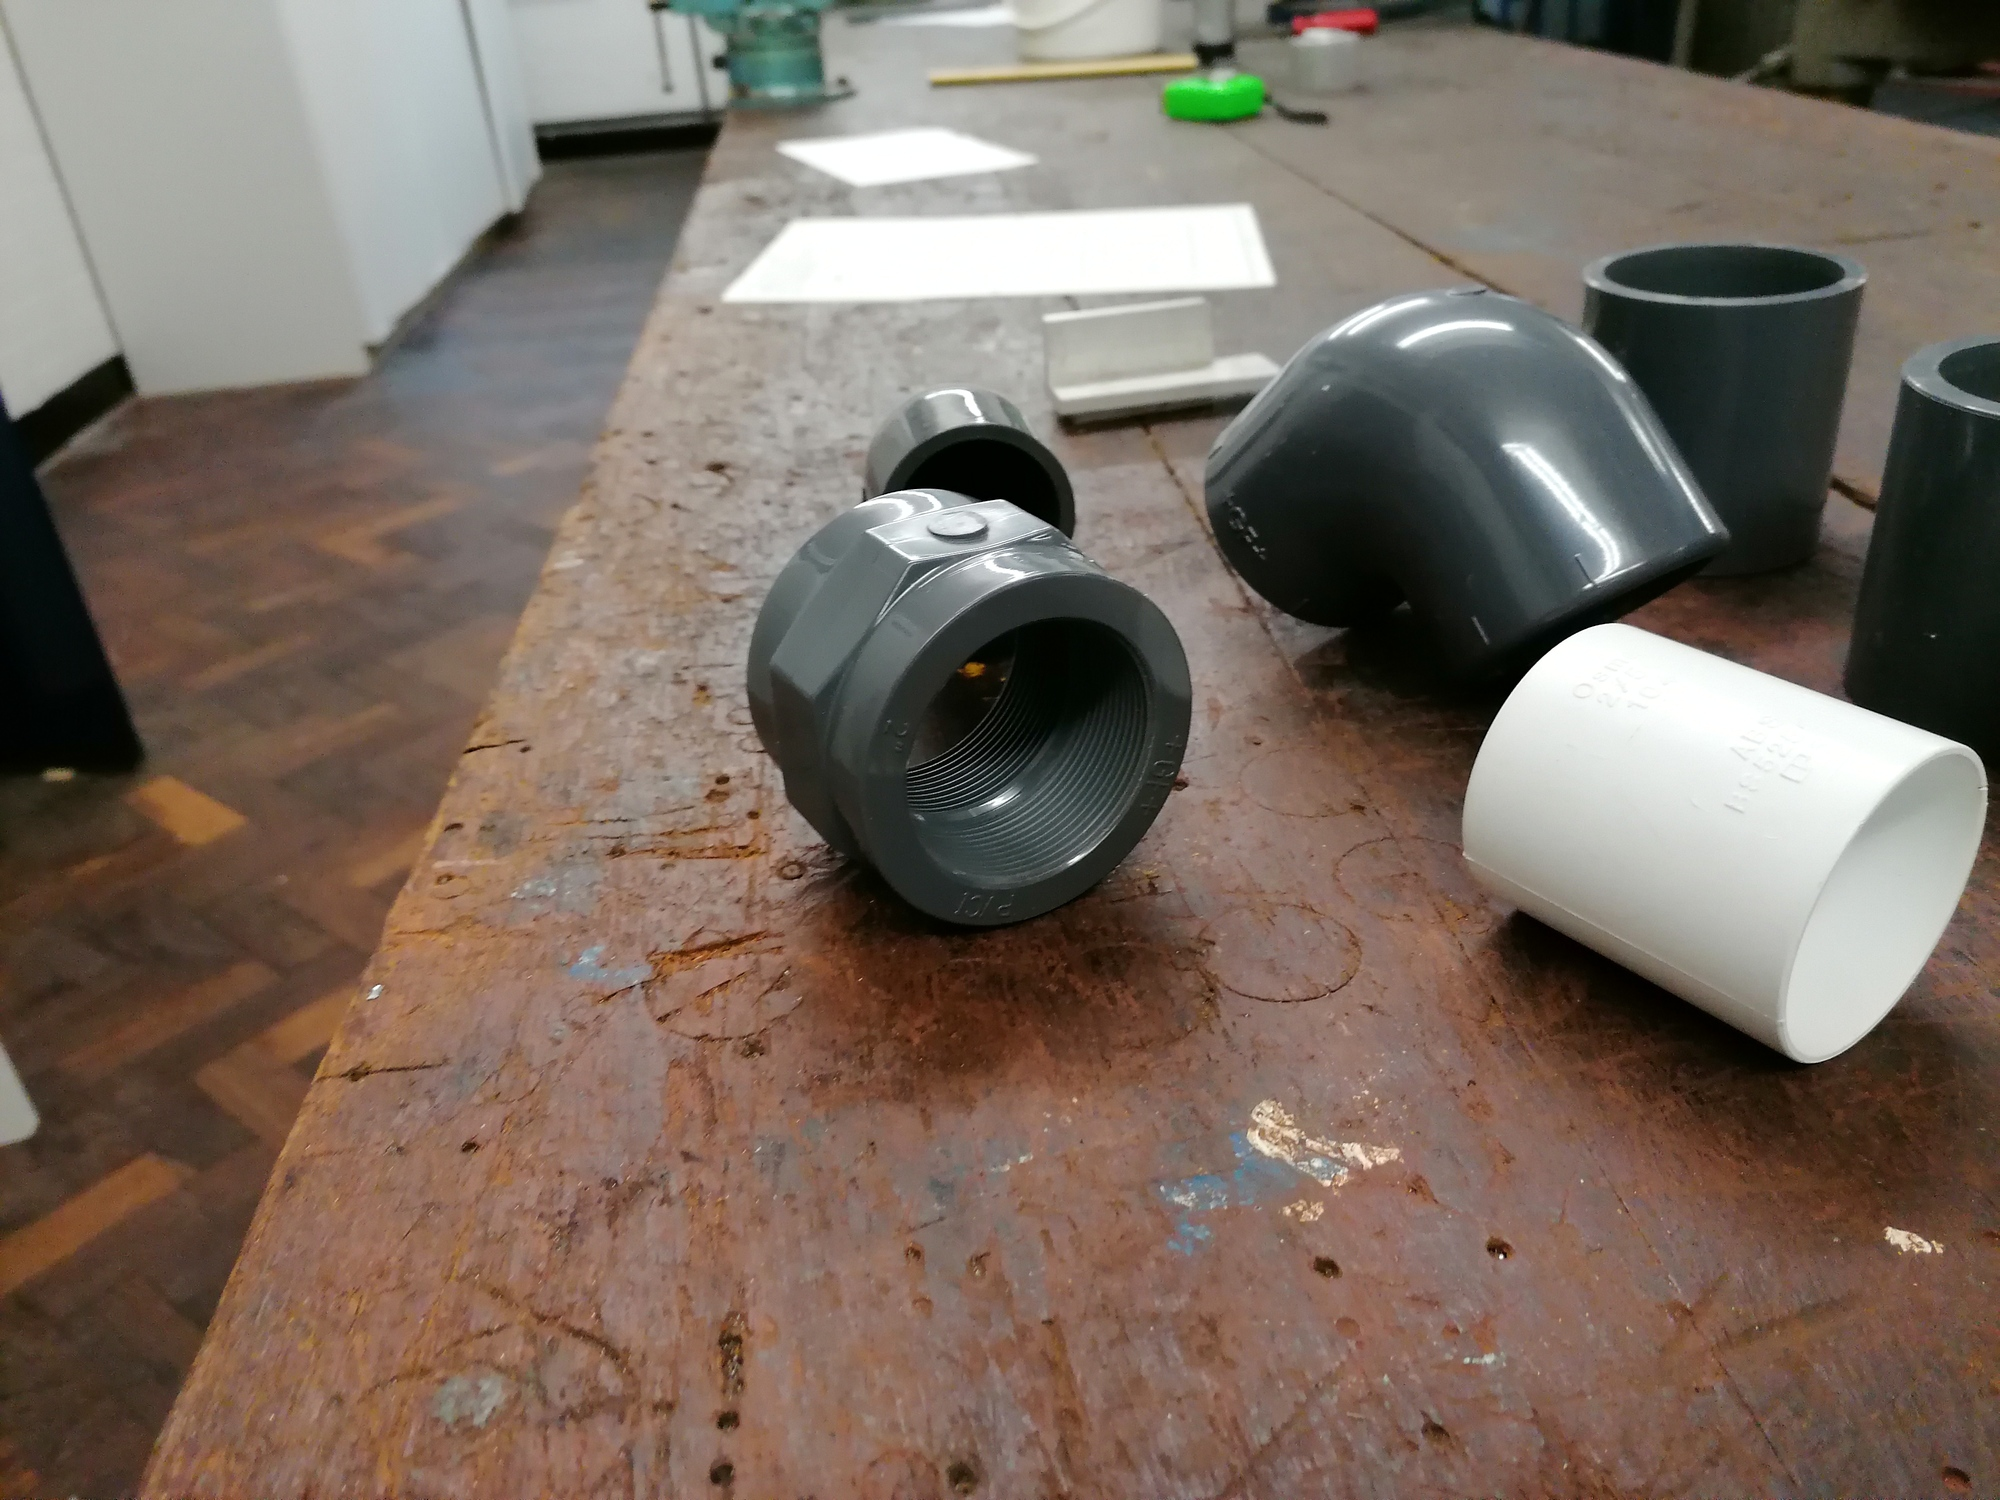nut: (742, 485, 1192, 933)
pipe: (1460, 619, 1991, 1065), (1195, 277, 1728, 663), (1580, 239, 1871, 575), (1839, 326, 2000, 811), (849, 383, 1080, 533)
